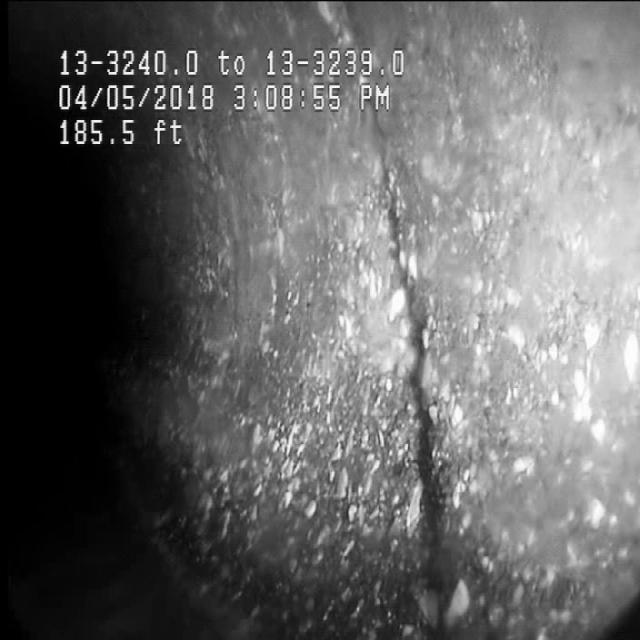Fracture: (354, 148, 494, 618)
